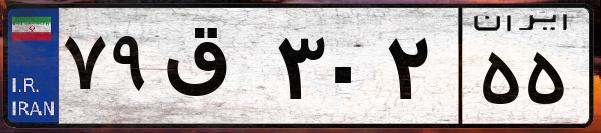0: (330, 28, 385, 110)
2: (385, 28, 445, 110)
3: (270, 28, 330, 110)
5: (475, 38, 525, 113), (525, 38, 570, 115)
7: (57, 26, 110, 100)
9: (110, 28, 158, 98)
ق: (158, 20, 270, 120)
